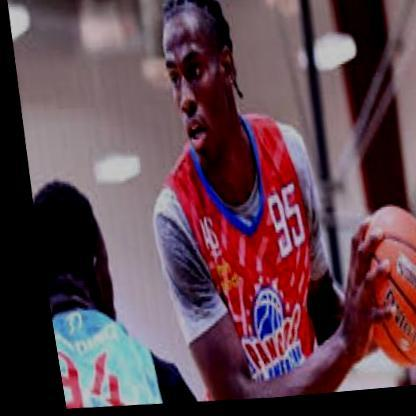basketball: (335, 209, 416, 377)
